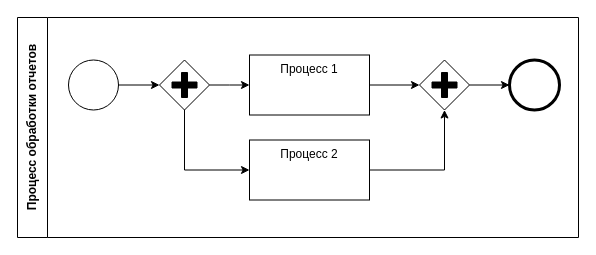
Image size: 596x255. Some labels were removed from this diagram. The shapes that lost their labels are listed below. From the top down, each one's centre as x and y in pixels, then its label:
At (93,84): "Старт".
At (534,84): "Финиш".
